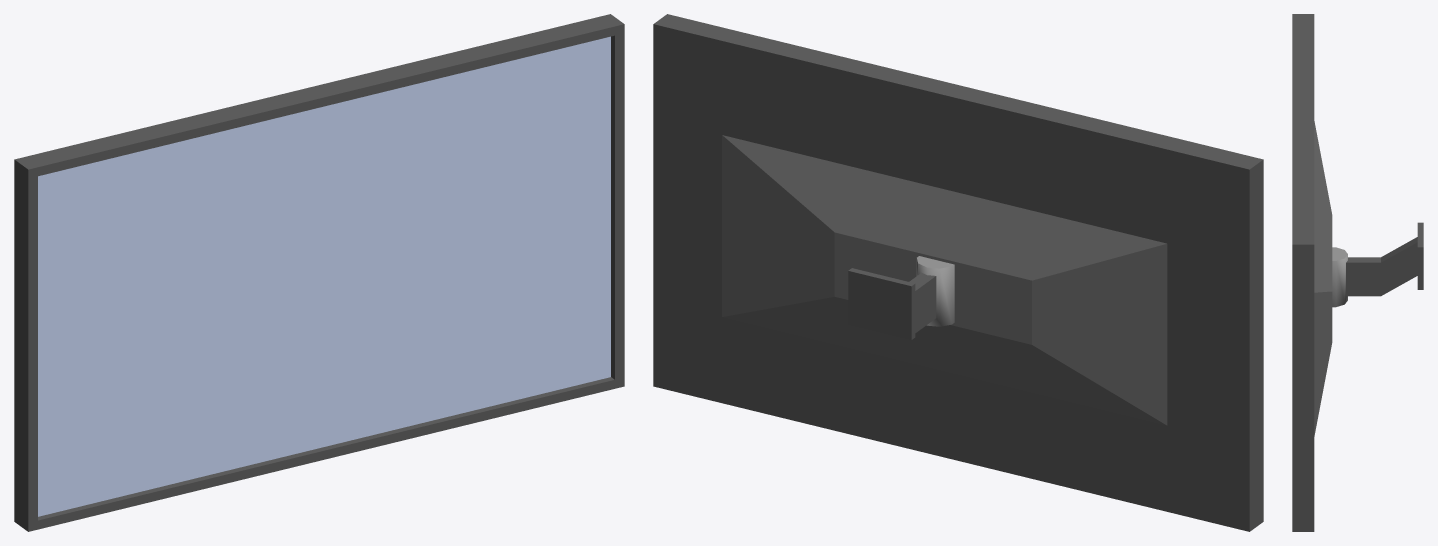
Rendered from TV Scherm.fbx.
3 renders of one model, left to right at view 1: azimuth 30°, elevation 25°; view 2: azimuth 150°, elevation 25°; view 3: azimuth 270°, elevation 25°, orthographic. The views are drawn at different scales.
Visible parts, largest first — view 1: TV Scherm; view 2: TV Scherm; view 3: TV Scherm.
Part boxes in pixels (left/top/right/bottom): TV Scherm: left=14, top=14, right=624, bottom=531; TV Scherm: left=653, top=14, right=1263, bottom=531; TV Scherm: left=1292, top=14, right=1423, bottom=531.
Size of the model in its own units: 95.35 by 55.37 by 22.92.
